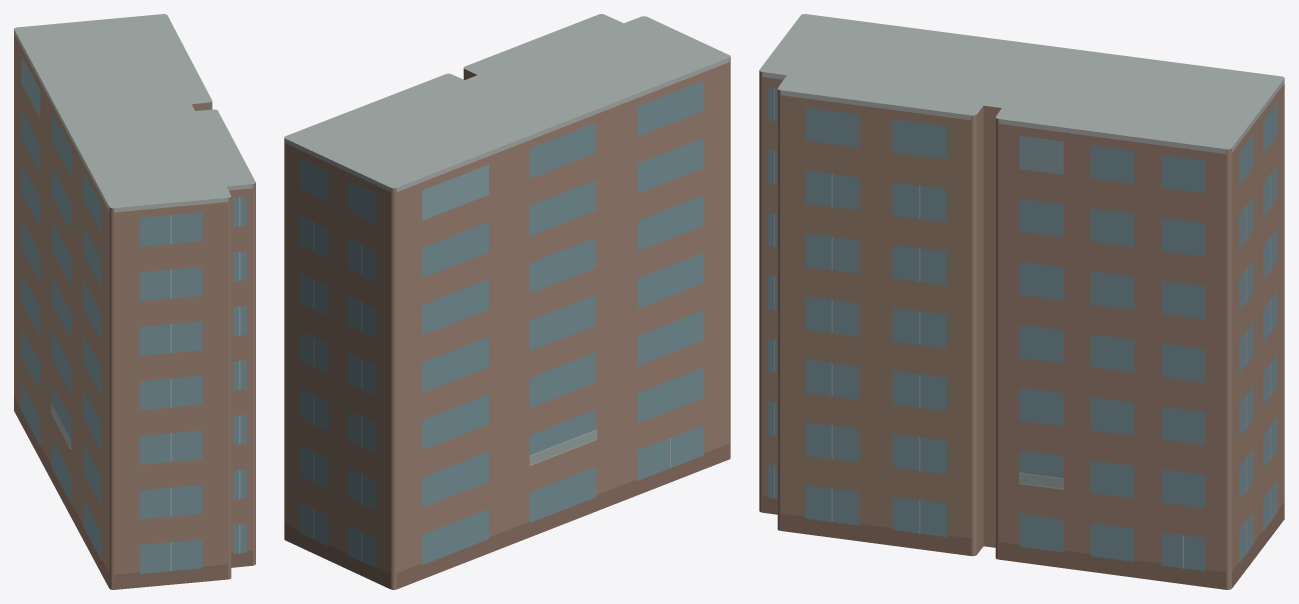
Rendered from survey-upis-32535725.glb.
3 renders of one model, left to right at view 1: azimuth 30°, elevation 25°; view 2: azimuth 150°, elevation 25°; view 3: azimuth 270°, elevation 25°, orthographic. The views are drawn at different scales.
Visible parts, largest first — view 1: survey-upis-32535725.tmp; view 2: survey-upis-32535725.tmp; view 3: survey-upis-32535725.tmp.
Boxes of the visible parts, x1,y1,x2,y2 form: survey-upis-32535725.tmp: (14, 14, 255, 589); survey-upis-32535725.tmp: (284, 14, 730, 589); survey-upis-32535725.tmp: (759, 14, 1284, 589).
Size of the model in its own units: 14.36 by 21.8 by 23.55.
